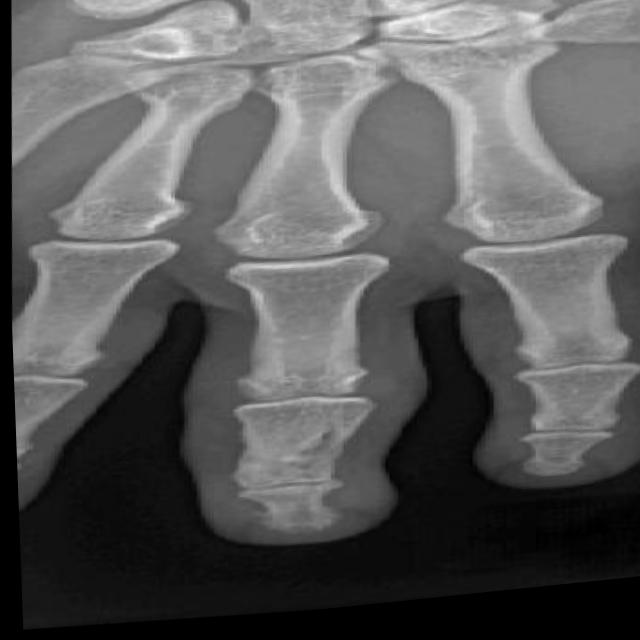fracture: (235, 432, 368, 495)
